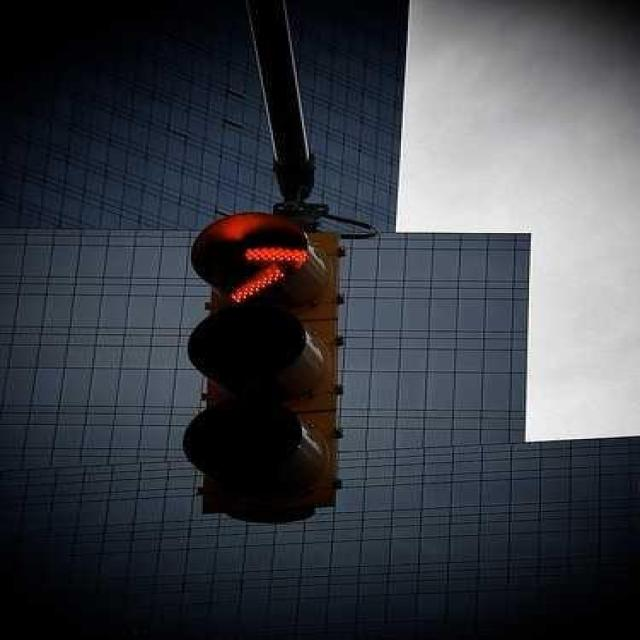Traffic Light -Red-: (172, 201, 336, 525)
